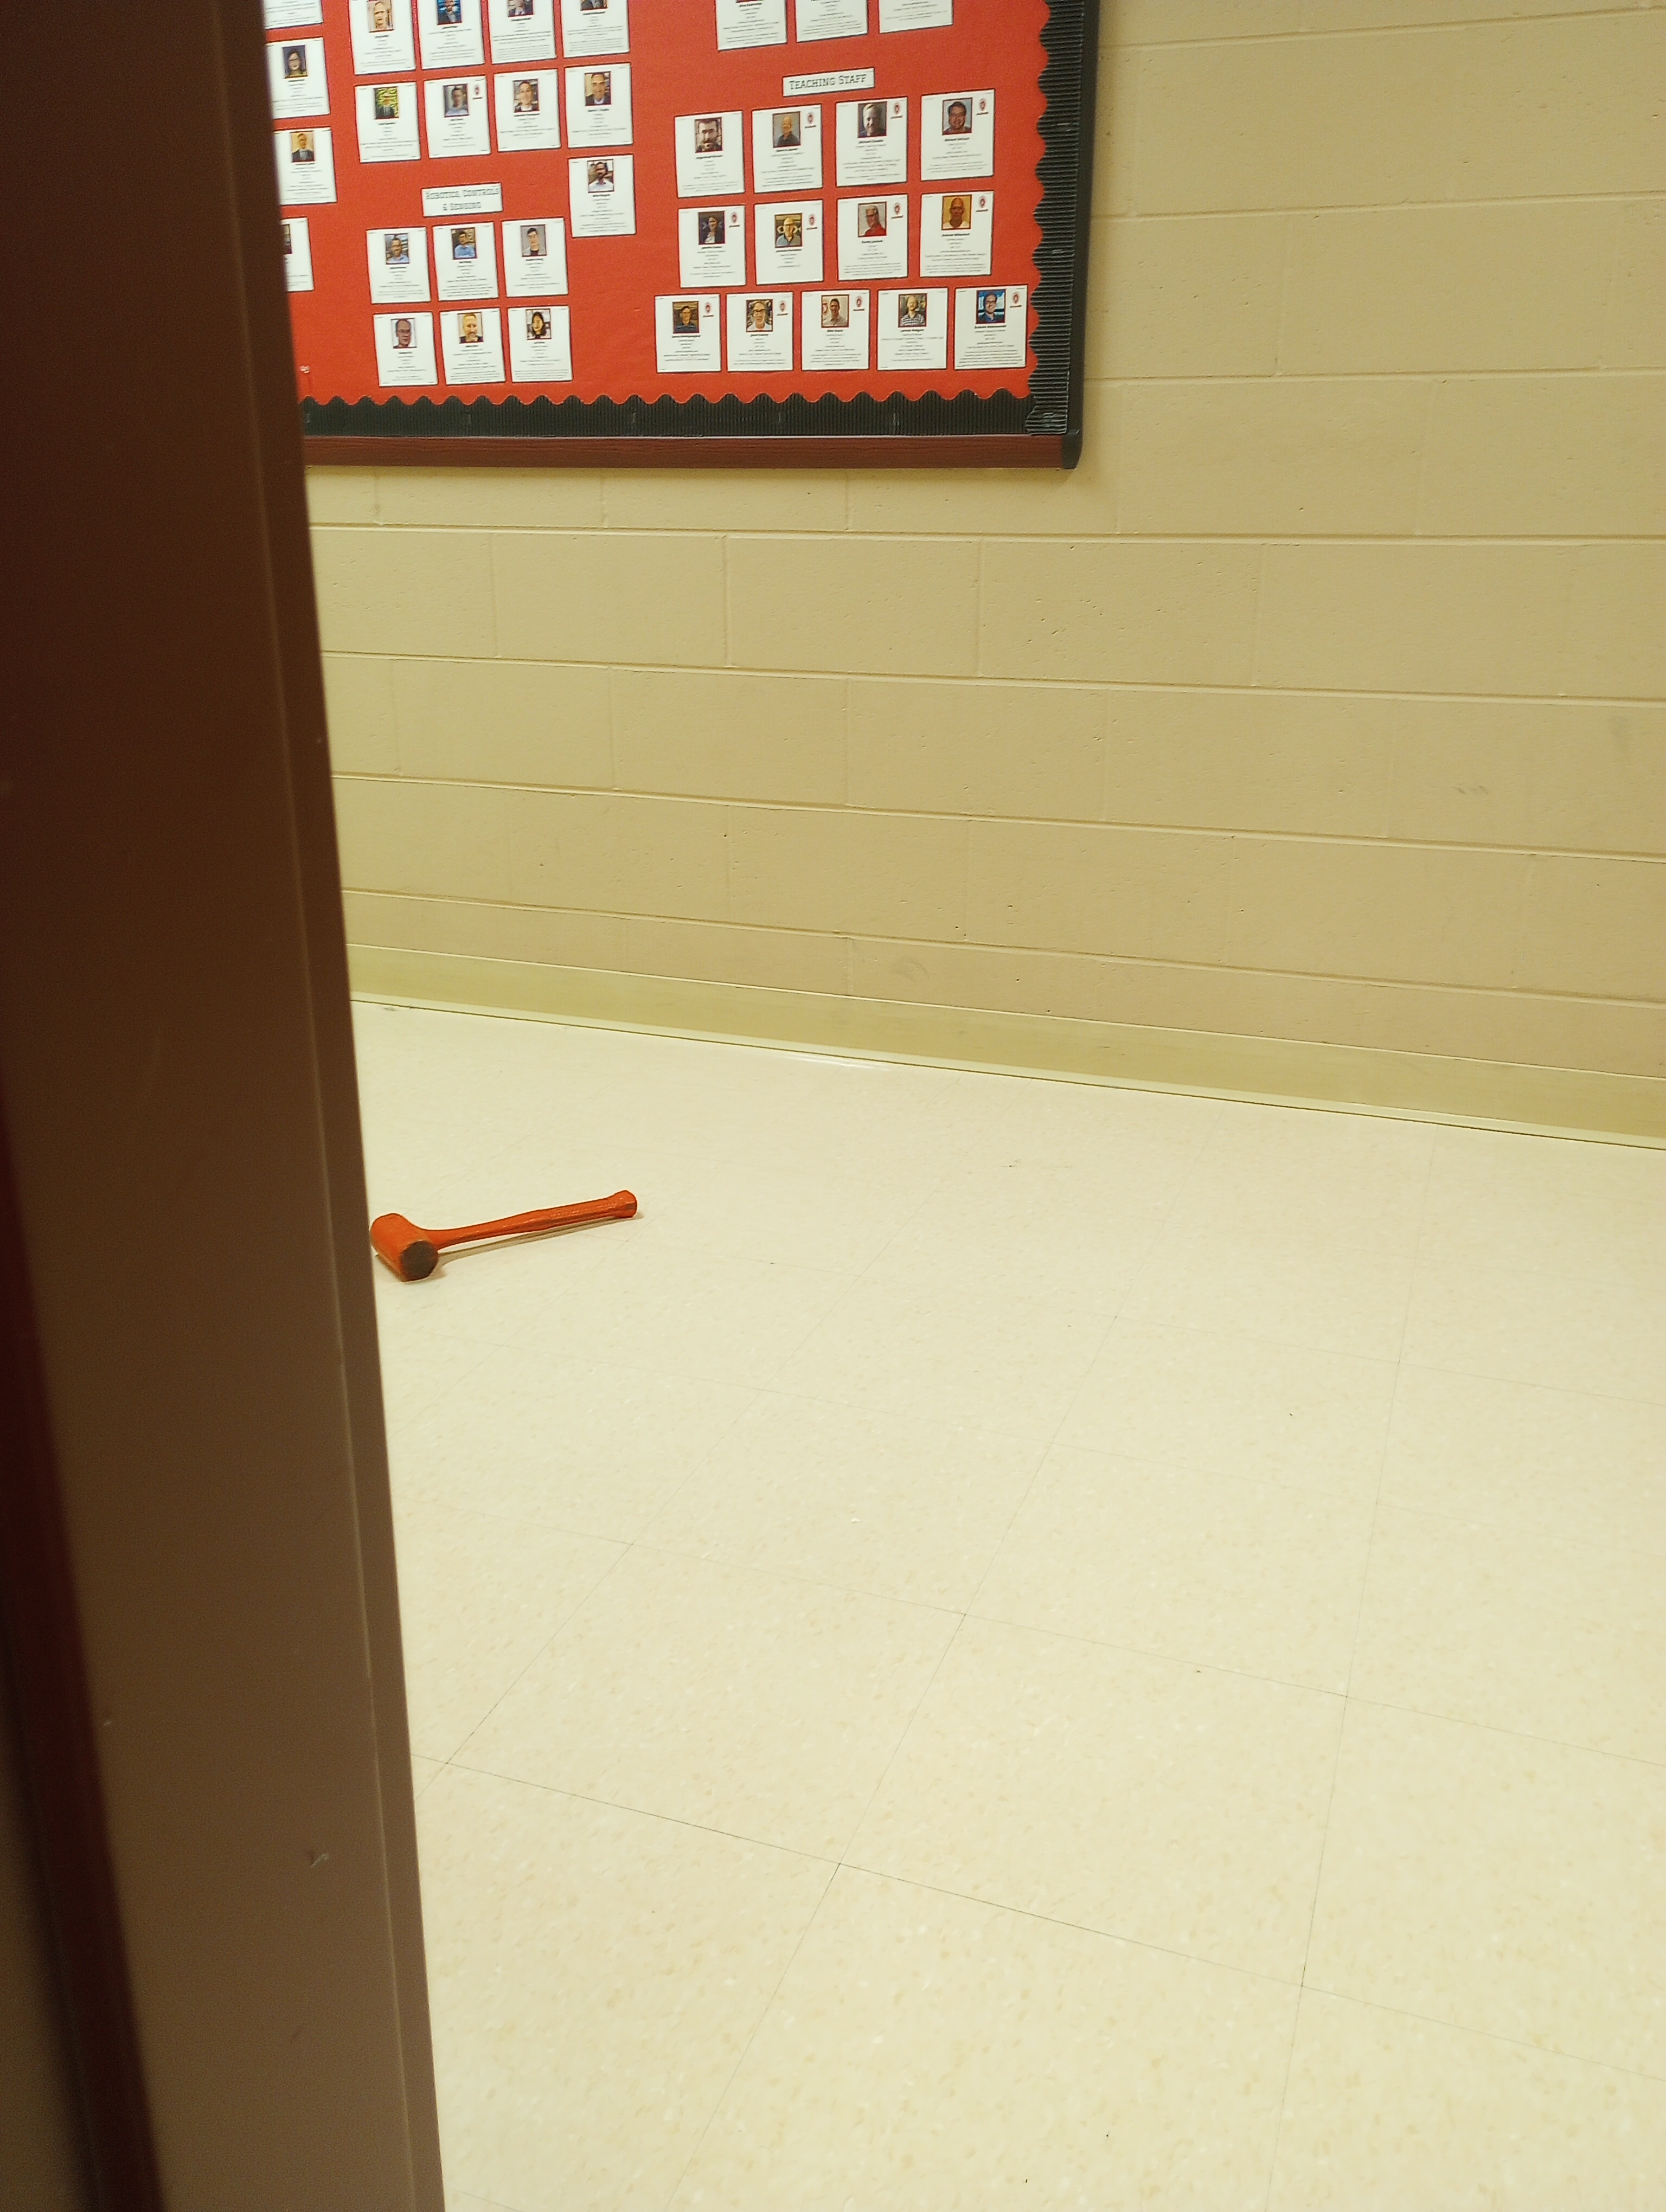hammer: (362, 1180, 637, 1290)
